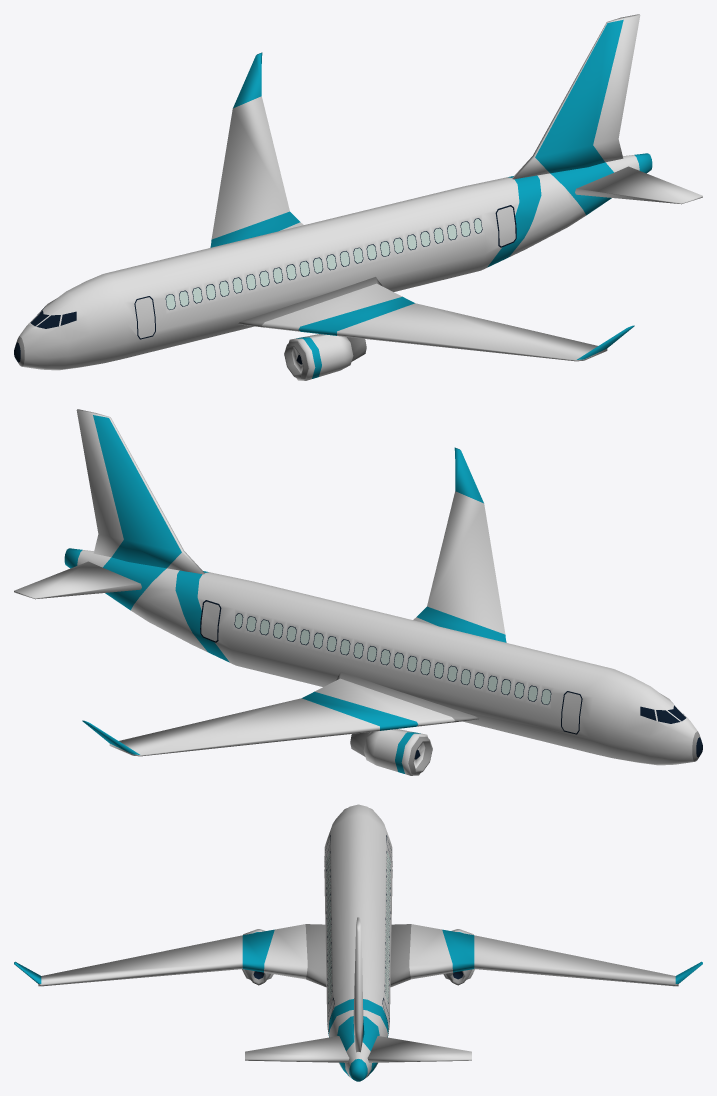
File: mdl_plane.glb
The picture shows the model from 3 angles, top to bottom: view 1: azimuth 30°, elevation 25°; view 2: azimuth 150°, elevation 25°; view 3: azimuth 270°, elevation 25°; orthographic projection. The views are drawn at different scales.
Parts seen in each view (by area): view 1: Cube; view 2: Cube; view 3: Cube.
Part boxes in pixels (bbox=[...]): Cube: bbox=[14, 14, 702, 380]; Cube: bbox=[14, 409, 702, 775]; Cube: bbox=[14, 804, 702, 1081].
Size of the model in its own units: 2.01 by 0.6958 by 2.05.
